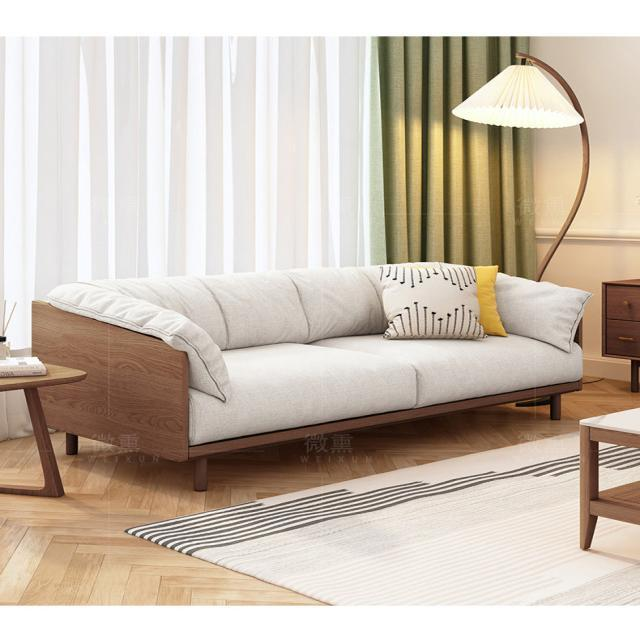sofa: (29, 260, 592, 492)
